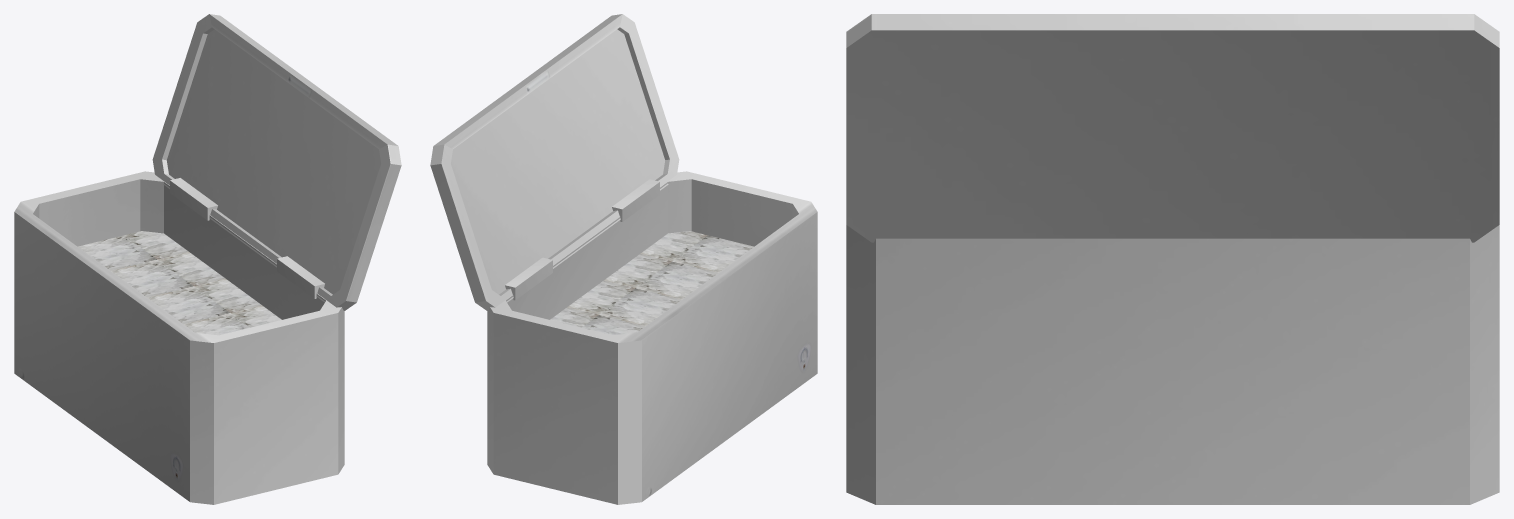
File: freezer.fbx
3 renders of one model, left to right at view 1: azimuth 30°, elevation 25°; view 2: azimuth 150°, elevation 25°; view 3: azimuth 270°, elevation 25°, orthographic. The views are drawn at different scales.
Visible parts, largest first — view 1: Cube.003; view 2: Cube.003; view 3: Cube.003.
Boxes of the visible parts, <box> form: Cube.003: <box>14,14,401,504</box>; Cube.003: <box>430,14,817,504</box>; Cube.003: <box>846,14,1499,504</box>.
Bounding box in the file's own units: 134 × 192 × 217.
